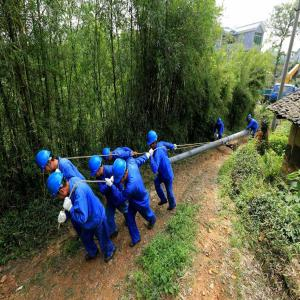blue: (47, 172, 69, 201), (36, 149, 57, 174), (113, 158, 129, 186), (90, 155, 105, 180), (148, 130, 159, 150), (104, 147, 114, 164), (218, 119, 222, 127), (248, 115, 252, 122)
